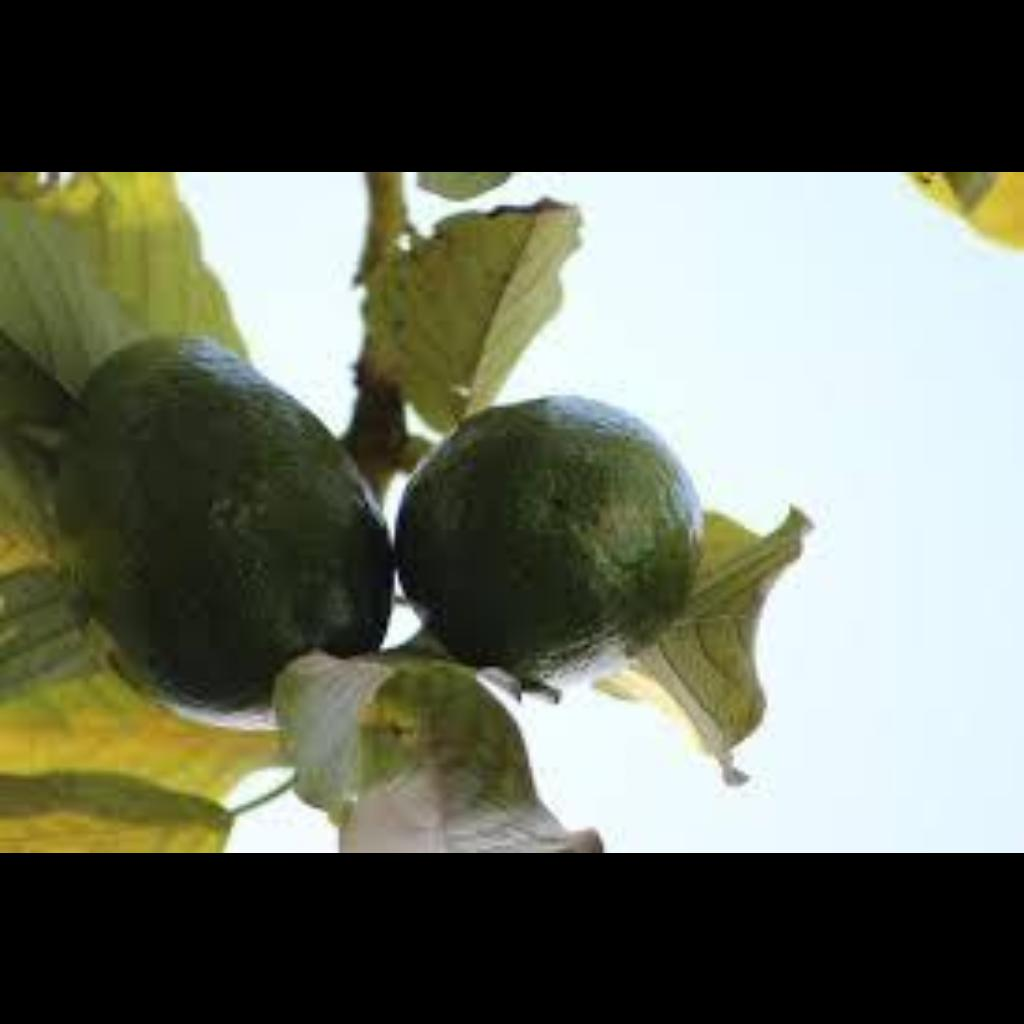antracnosis_fruto: (108, 377, 369, 653)
